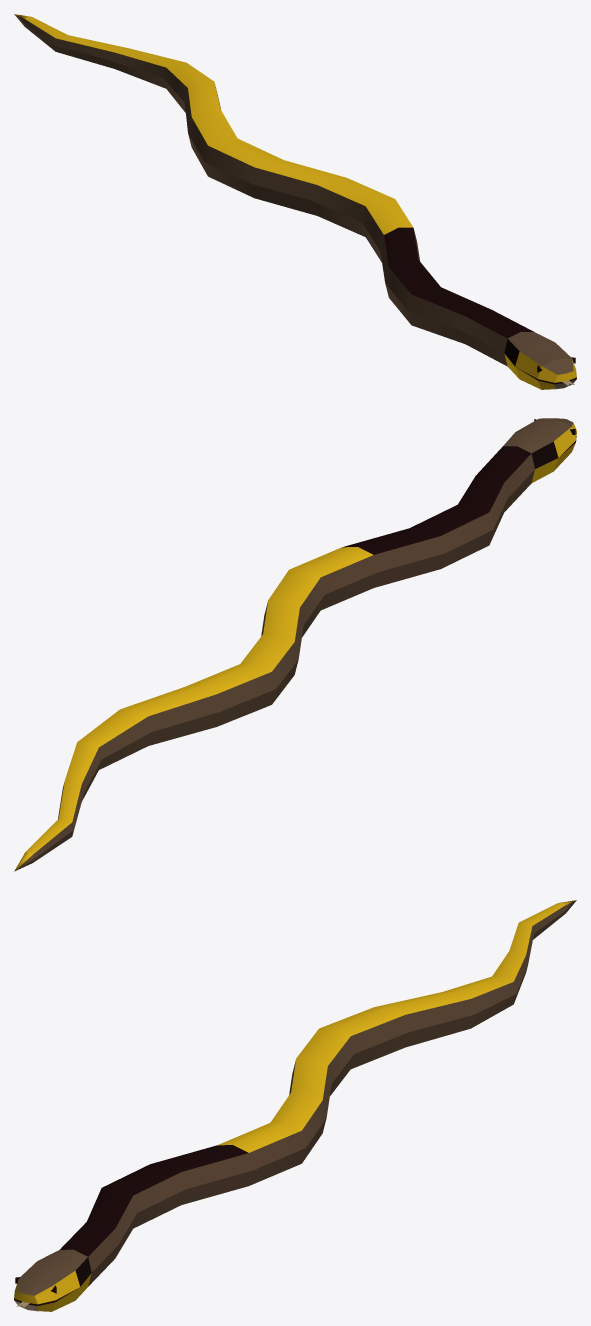
File: 2ovwPNrRijL.glb
3 renders of one model, top to bottom at view 1: azimuth 30°, elevation 25°; view 2: azimuth 150°, elevation 25°; view 3: azimuth 330°, elevation 25°, orthographic. The views are drawn at different scales.
Parts seen in each view (by area): view 1: Geo_Snake Snake_Group; view 2: Geo_Snake Snake_Group; view 3: Geo_Snake Snake_Group.
Part boxes in pixels (box(x1,y1,x2,y2)): Geo_Snake Snake_Group: box(14, 14, 576, 389); Geo_Snake Snake_Group: box(14, 418, 576, 871); Geo_Snake Snake_Group: box(14, 900, 576, 1311).
Size of the model in its own units: 2.44 by 1 by 24.48.
Materials: 1 (1 with a texture image).
